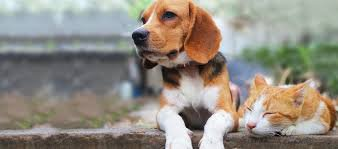cat: (236, 64, 338, 142)
dog: (131, 2, 246, 149)
